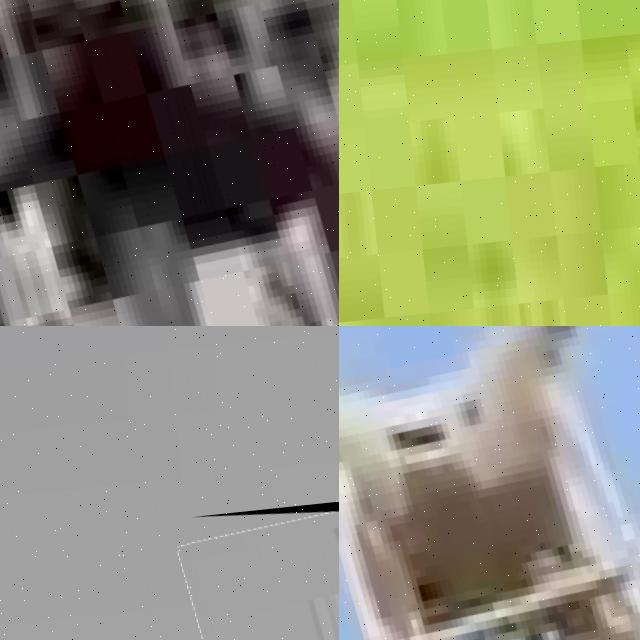0: (0, 0, 339, 326), (190, 493, 339, 640)
drone: (339, 326, 640, 640)
